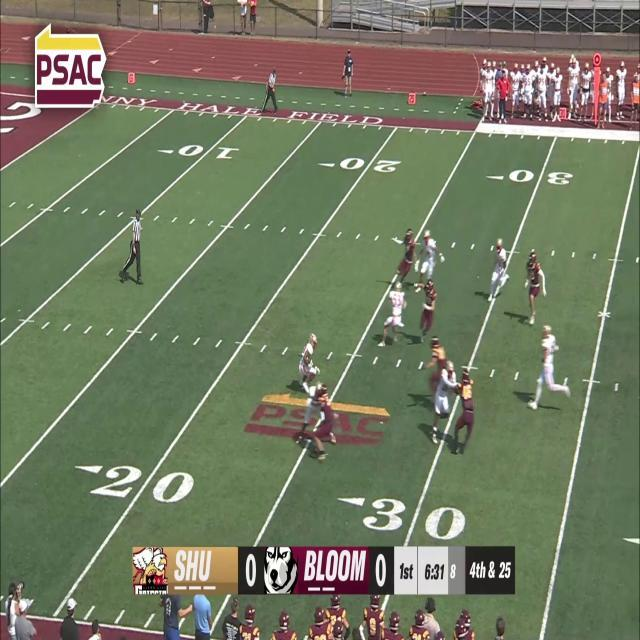football: (306, 356, 316, 364)
